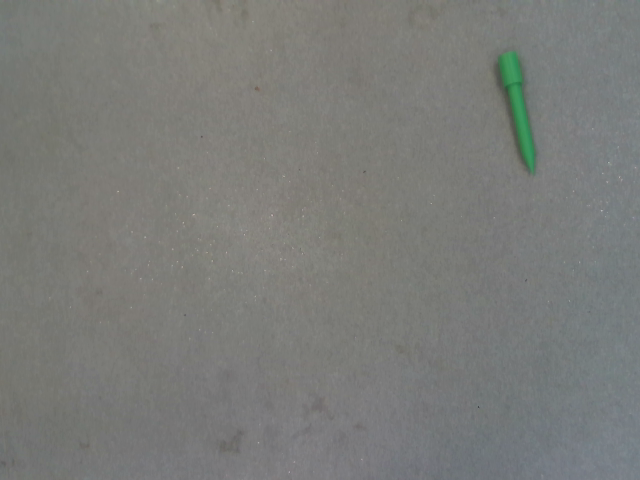Probe: (492, 45, 544, 181)
